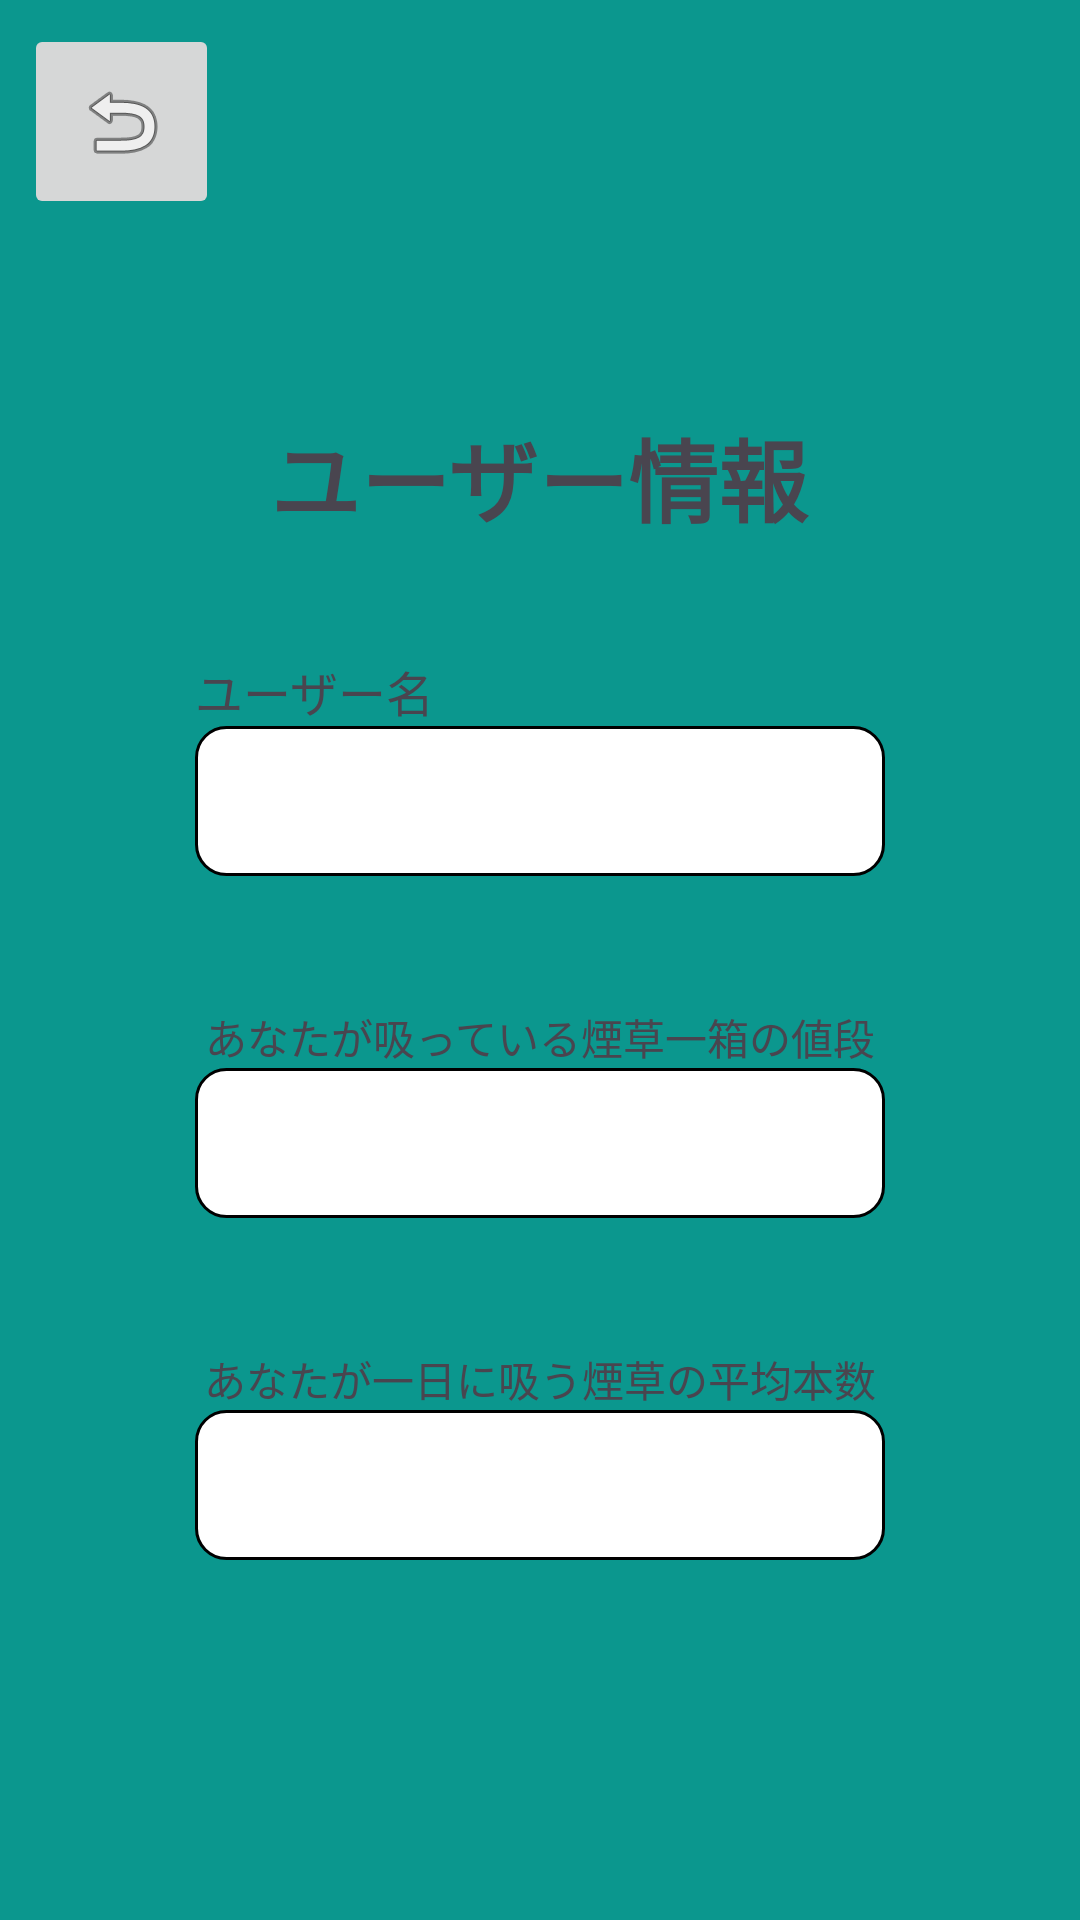

Point at icon controls on the screen. Image size 1080 × 1920, points as point (x, y).
revert: point (121, 121)
